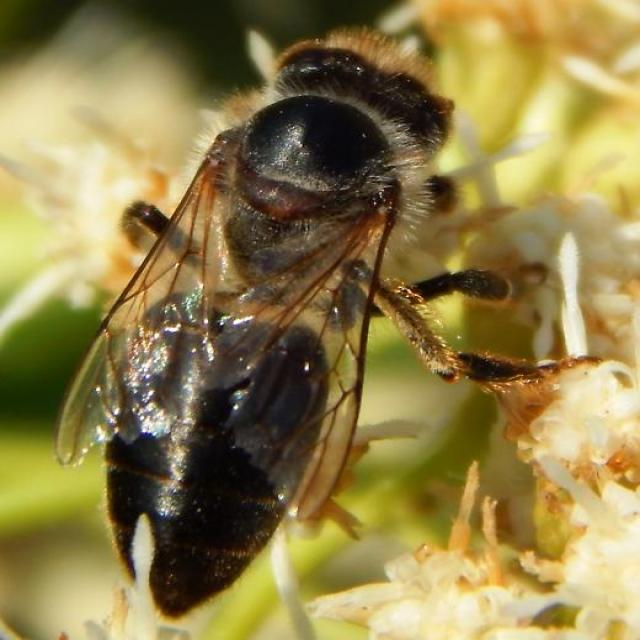Allodapula: (57, 14, 530, 633)
